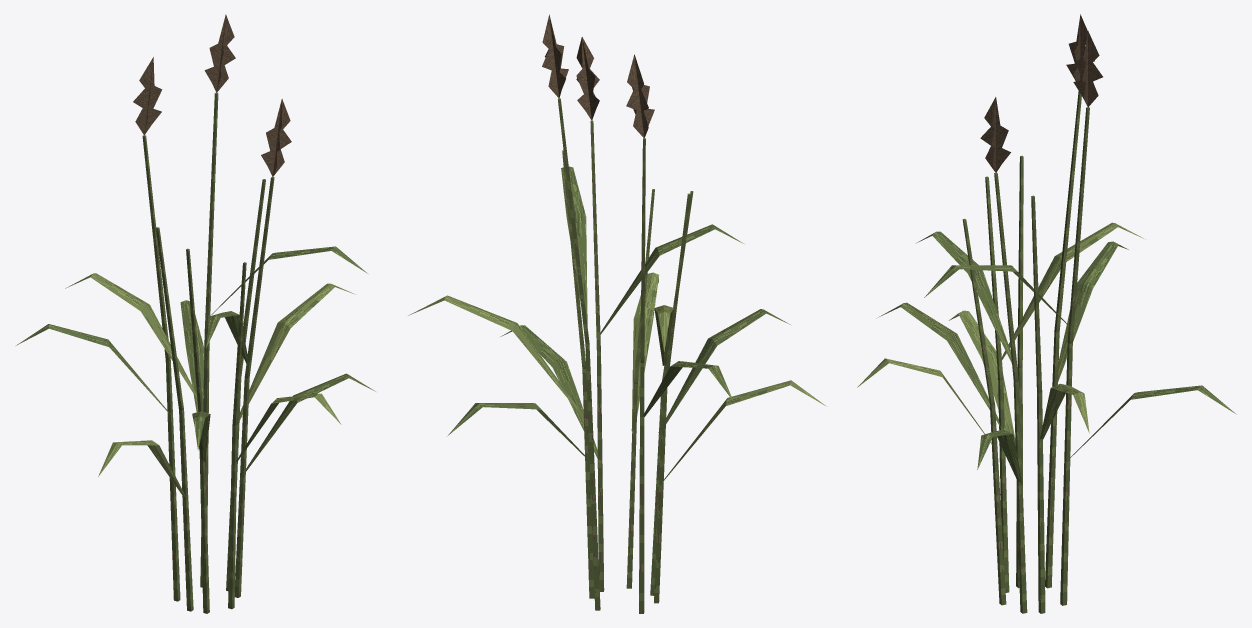
The model's file is sich_reeds.glb.
3 views of the same model, side by side, from view 1: azimuth 30°, elevation 25°; view 2: azimuth 150°, elevation 25°; view 3: azimuth 270°, elevation 25° (orthographic). The views are drawn at different scales.
Visible parts, largest first — view 1: Reed_Plume_03; view 2: Reed_Plume_03; view 3: Reed_Plume_03.
Part boxes in pixels (<box>): Reed_Plume_03: <box>16,14,375,613</box>; Reed_Plume_03: <box>408,14,826,613</box>; Reed_Plume_03: <box>857,14,1236,613</box>.
Bounding box in the file's own units: 0.8 × 1.3 × 0.7608.
Materials: 1 (1 with a texture image).
